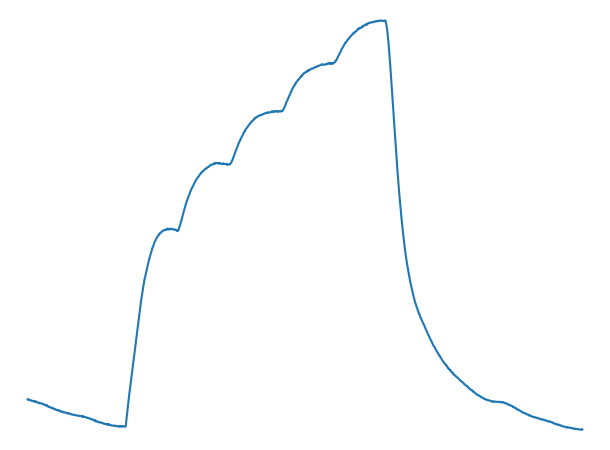decrease: (373, 14, 393, 31)
increase: (323, 55, 342, 70), (219, 155, 239, 169), (169, 220, 185, 237), (115, 416, 133, 431), (271, 103, 290, 116)
